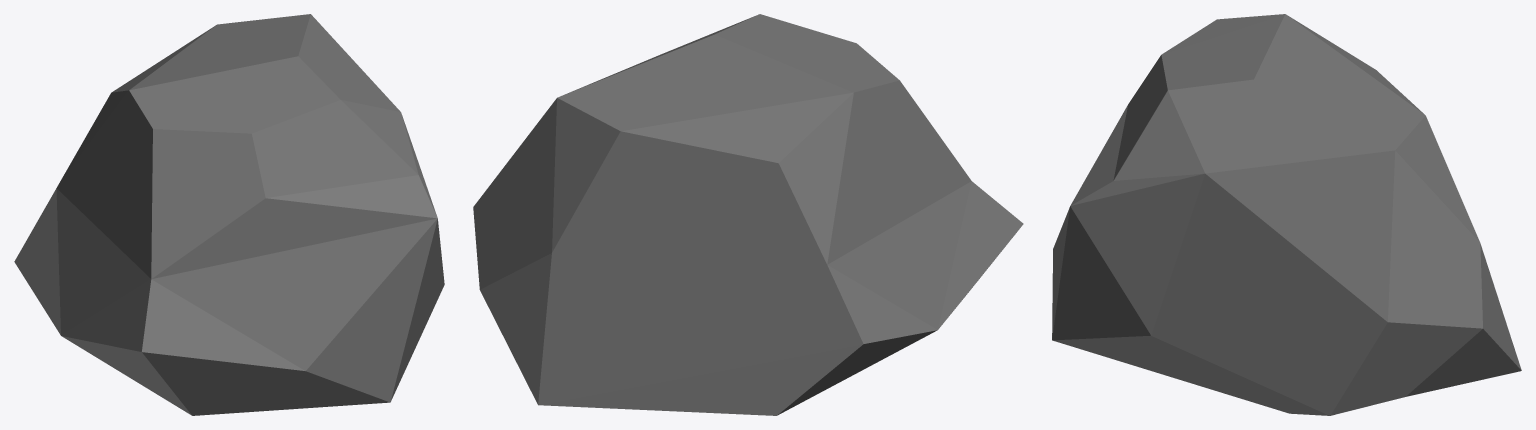
Rendered from rock5.fbx.
3 renders of one model, left to right at view 1: azimuth 30°, elevation 25°; view 2: azimuth 150°, elevation 25°; view 3: azimuth 270°, elevation 25°, orthographic. The views are drawn at different scales.
Visible parts, largest first — view 1: rock5; view 2: rock5; view 3: rock5.
Boxes of the visible parts, x1=… form: rock5: x1=14, y1=14, x2=444, y2=415; rock5: x1=473, y1=14, x2=1023, y2=415; rock5: x1=1052, y1=14, x2=1521, y2=415.
Size of the model in its own units: 1.32 by 0.8699 by 1.35.
